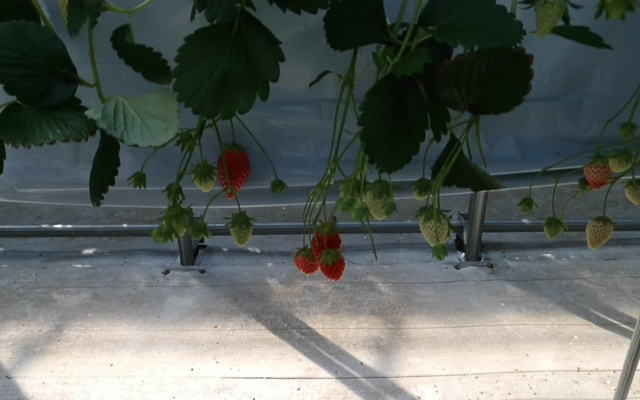GreenStrawberry: (417, 206, 450, 249), (533, 1, 568, 40), (365, 178, 395, 222), (583, 214, 614, 251), (582, 154, 613, 191), (162, 204, 190, 238), (228, 213, 253, 248), (190, 162, 216, 194), (608, 147, 633, 174), (542, 216, 564, 239), (624, 179, 640, 206)
MatureStrawberry: (216, 143, 252, 200), (311, 224, 343, 265), (319, 251, 346, 282), (293, 246, 319, 275)
